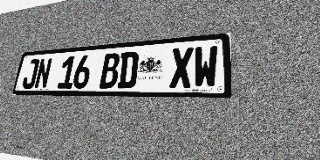1: (57, 56, 77, 89)
6: (72, 55, 93, 89)
B: (99, 53, 121, 88)
D: (117, 51, 139, 88)
J: (21, 59, 40, 89)
N: (34, 58, 53, 89)
W: (193, 45, 218, 88)
X: (169, 47, 193, 88)
